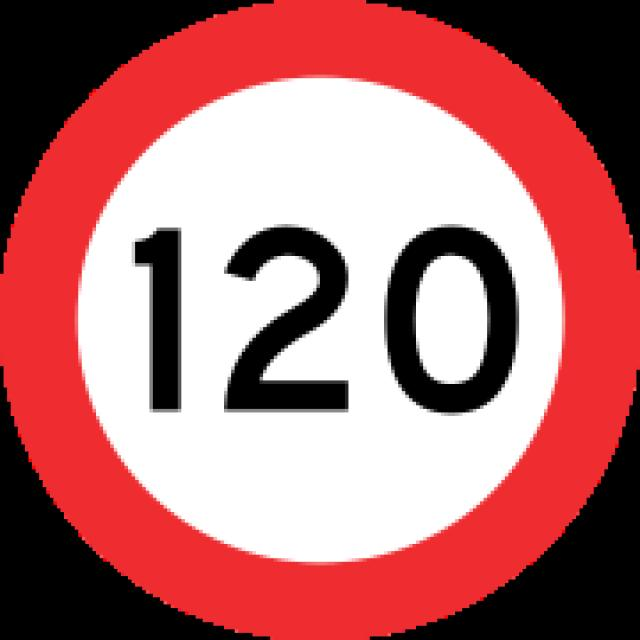Speed Limit -120-: (108, 206, 541, 434)
